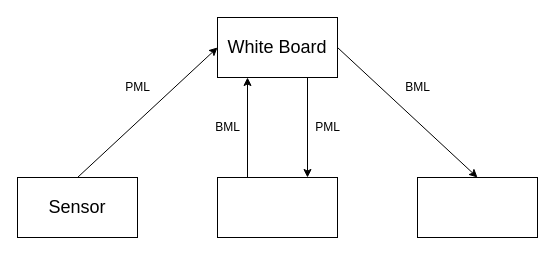
Some shapes in this 555 by 255 pixel diagram are drawn without their labels. Each missing label, with the centre of its shape:
"Behavior Realizer" belongs at [477,207].
"Decider" belongs at [277,207].
